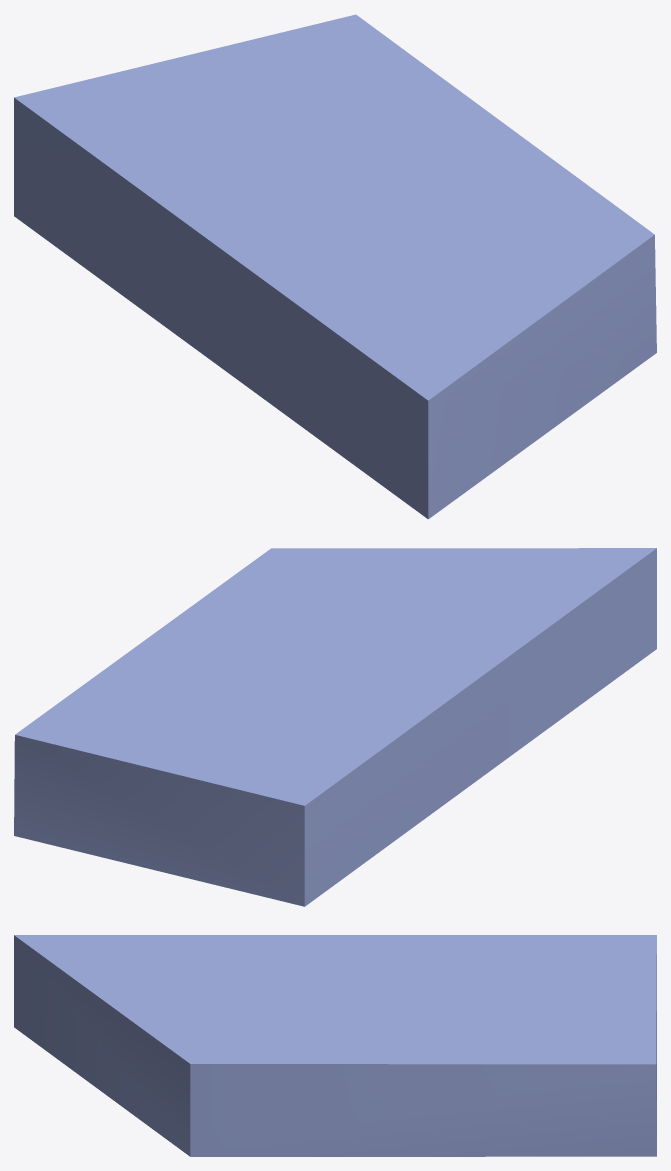
Rendered from chairColMiddle_1.fbx.
3 renders of one model, top to bottom at view 1: azimuth 30°, elevation 25°; view 2: azimuth 150°, elevation 25°; view 3: azimuth 270°, elevation 25°, orthographic. The views are drawn at different scales.
Parts seen in each view (by area): view 1: chairColMiddle1; view 2: chairColMiddle1; view 3: chairColMiddle1.
Boxes of the visible parts, x1,y1,x2,y2 form: chairColMiddle1: (14, 14, 656, 519); chairColMiddle1: (14, 548, 656, 906); chairColMiddle1: (14, 935, 656, 1156).
Size of the model in its own units: 0.8701 by 0.2885 by 1.82.
